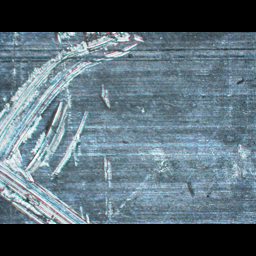d: (0, 32, 148, 223)
